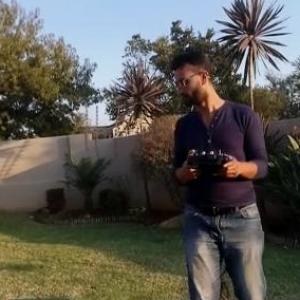follow: (169, 45, 274, 299)
